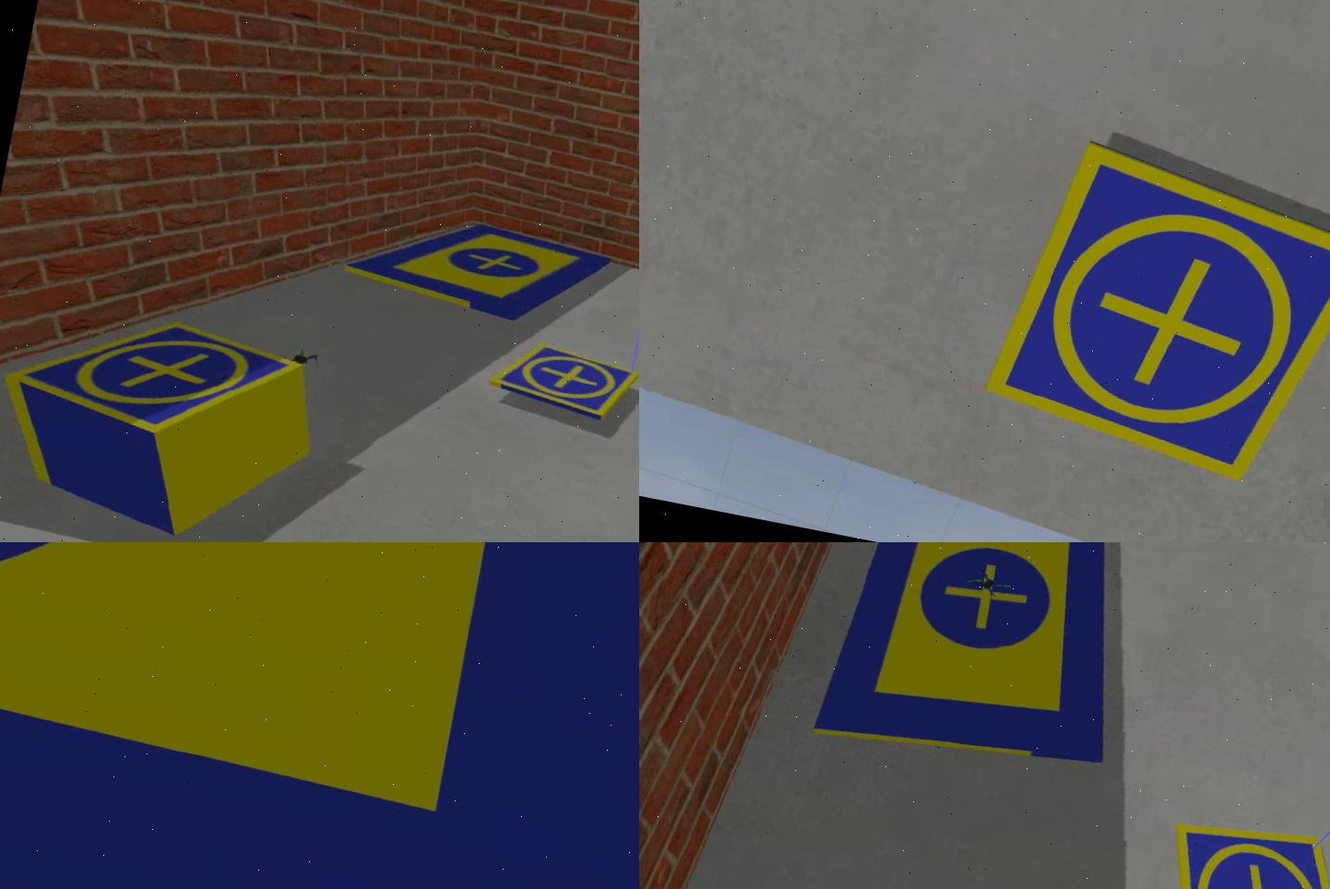large_base: (0, 542, 637, 889), (806, 542, 1150, 790), (338, 198, 619, 336)
small_base: (976, 130, 1328, 499), (0, 290, 311, 457), (479, 338, 637, 430), (1146, 812, 1328, 889)
